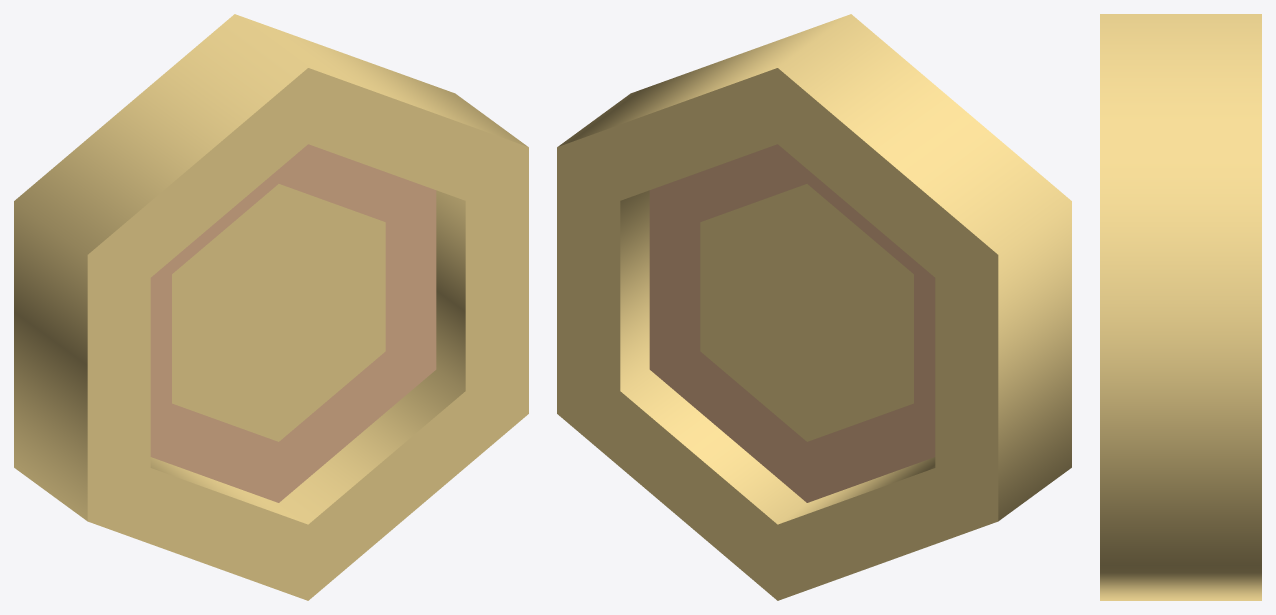
3 views of the same model, side by side, from view 1: azimuth 30°, elevation 25°; view 2: azimuth 150°, elevation 25°; view 3: azimuth 270°, elevation 25° (orthographic). The views are drawn at different scales.
Visible parts, largest first — view 1: coinGold; view 2: coinGold; view 3: coinGold.
Boxes of the visible parts, x1=… form: coinGold: x1=14, y1=14, x2=528, y2=600; coinGold: x1=557, y1=14, x2=1071, y2=600; coinGold: x1=1100, y1=14, x2=1261, y2=600.
Bounding box in the file's own units: 0.3464 × 0.4 × 0.1.
